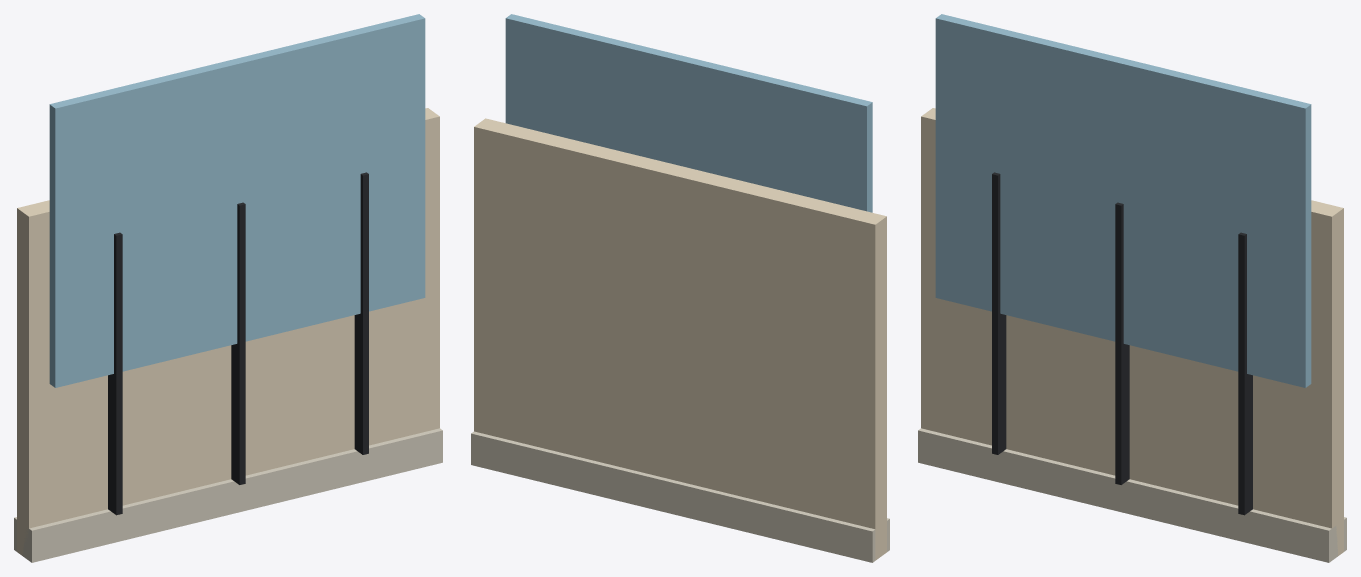
Rendered from arch.bay-curtain.glb.
3 views of the same model, side by side, from view 1: azimuth 30°, elevation 25°; view 2: azimuth 150°, elevation 25°; view 3: azimuth 330°, elevation 25° (orthographic). The views are drawn at different scales.
Visible parts, largest first — view 1: arch.bay-curtain; view 2: arch.bay-curtain; view 3: arch.bay-curtain.
Boxes of the visible parts, x1,y1,x2,y2 form: arch.bay-curtain: (14, 14, 442, 562); arch.bay-curtain: (471, 14, 889, 562); arch.bay-curtain: (918, 14, 1346, 562).
Bounding box in the file's own units: 4 × 4.2 × 0.39.
